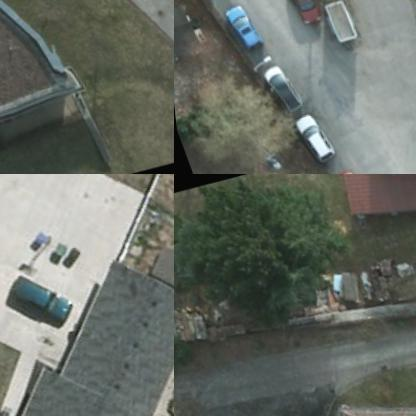car: (2, 263, 71, 332), (250, 56, 296, 113), (284, 110, 332, 162), (214, 0, 258, 56), (278, 0, 320, 23)
